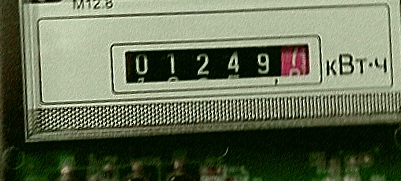0: (128, 48, 149, 76)
1: (160, 50, 177, 76)
2: (190, 50, 212, 78)
4: (223, 47, 243, 75)
7: (283, 43, 300, 68)
9: (252, 49, 272, 75)
screen: (99, 21, 337, 114)
